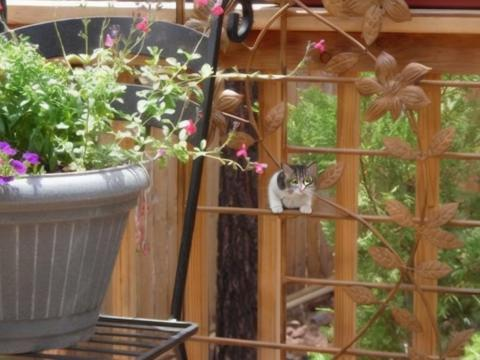cat: (265, 163, 316, 214)
chair: (2, 2, 254, 360)
pottedplant: (2, 2, 265, 355)
